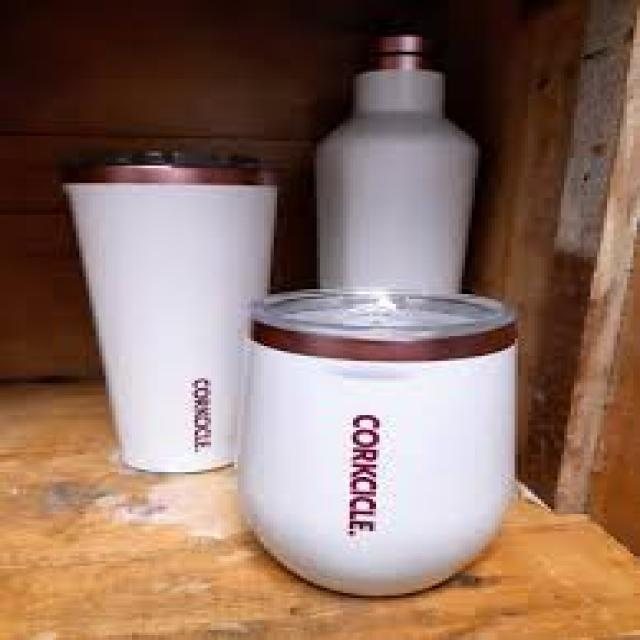bottle: (244, 284, 513, 599), (63, 152, 282, 476), (316, 34, 481, 286)
